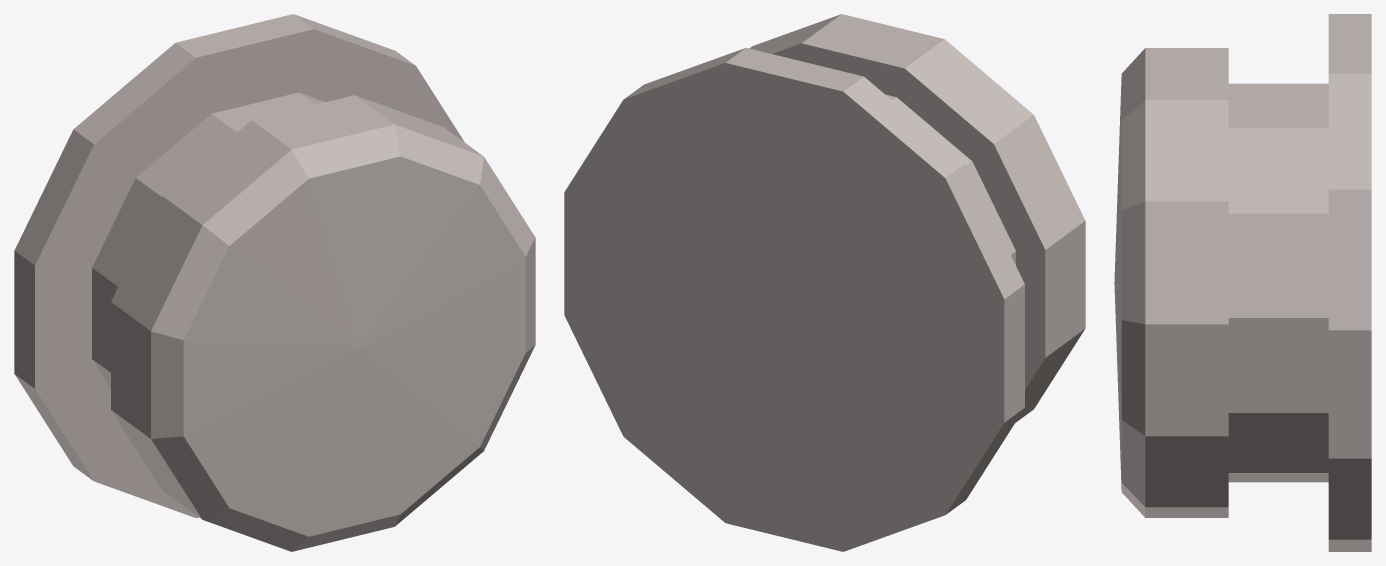
Rendered from SM_Fixture_VentCap150_01.gltf.
3 views of the same model, side by side, from view 1: azimuth 30°, elevation 25°; view 2: azimuth 150°, elevation 25°; view 3: azimuth 270°, elevation 25° (orthographic). The views are drawn at different scales.
Visible parts, largest first — view 1: SM_Fixture_VentCap150_01; view 2: SM_Fixture_VentCap150_01; view 3: SM_Fixture_VentCap150_01.
Boxes of the visible parts, <box> form: SM_Fixture_VentCap150_01: <box>14,14,535,551</box>; SM_Fixture_VentCap150_01: <box>564,14,1085,551</box>; SM_Fixture_VentCap150_01: <box>1114,14,1371,551</box>.
Size of the model in its own units: 0.2217 by 0.2217 by 0.108.
1 material, 1 textured.
